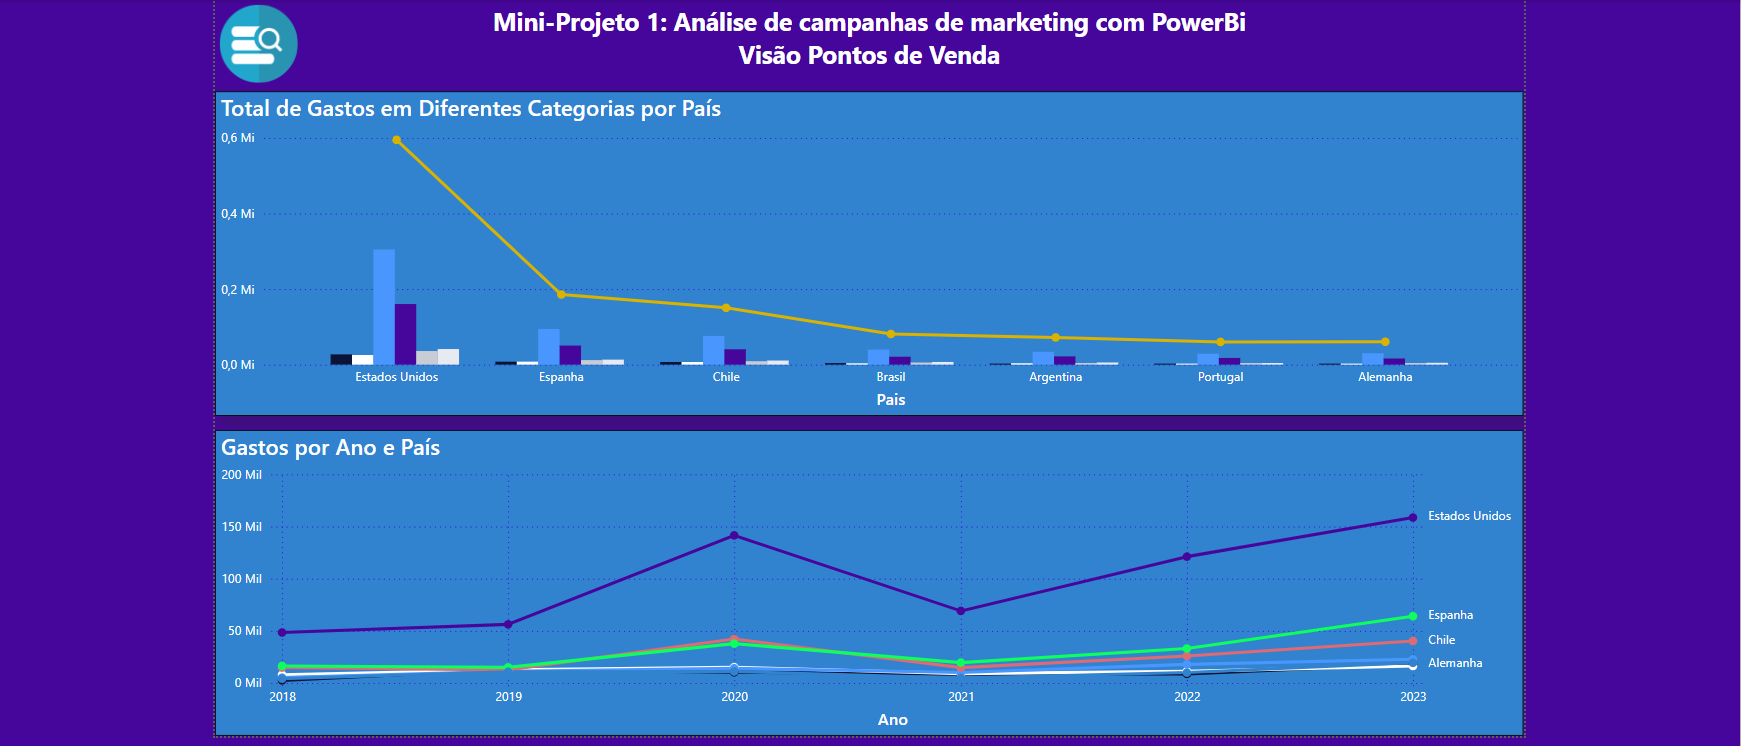

This screenshot's page, from the dashboard's own definition file:
{"tool":"powerbi","page":{"name":"Pontos de Venda","canvas":[1280,720],"ordinal":3},"visuals":[{"type":"textbox","box":[0,0,1280.3,106.4],"z":0},{"type":"image","box":[0,0,85.6,85.6],"z":1000},{"type":"lineClusteredColumnComboChart","title":"Total de Gastos  em Diferentes Categorias por País","fields":{"Category":["Dados Marketing.Pais"],"Y":["Sum(Dados Marketing.Gasto com Alimentos)","Sum(Dados Marketing.Gasto com Brinquedos)","Sum(Dados Marketing.Gasto com Eletronicos)","Sum(Dados Marketing.Gasto com Moveis)","Sum(Dados Marketing.Gasto com Utilidades)","Sum(Dados Marketing.Gasto com Vestuario)"],"Y2":["Dados Marketing.Gastos"]},"box":[0,89.2,1280.3,317.4],"z":2000},{"type":"lineChart","title":"Gastos por Ano e País","fields":{"Y":["Dados Marketing.Gastos"],"Category":["Dados Marketing.Data Cadastro.Variation.Hierarquia de datas.Ano"],"Series":["Dados Marketing.Pais"]},"box":[0,421.1,1280.3,299.1],"z":3000}]}

Visuals, with their boxes in screenshot pixels (x1, y1, x2, y2):
textbox: rect(209, 0, 1520, 104)
image: rect(209, 0, 296, 83)
"Total de Gastos  em Diferentes Categorias por País" lineClusteredColumnComboChart: rect(209, 87, 1520, 412)
"Gastos por Ano e País" lineChart: rect(209, 427, 1520, 733)
